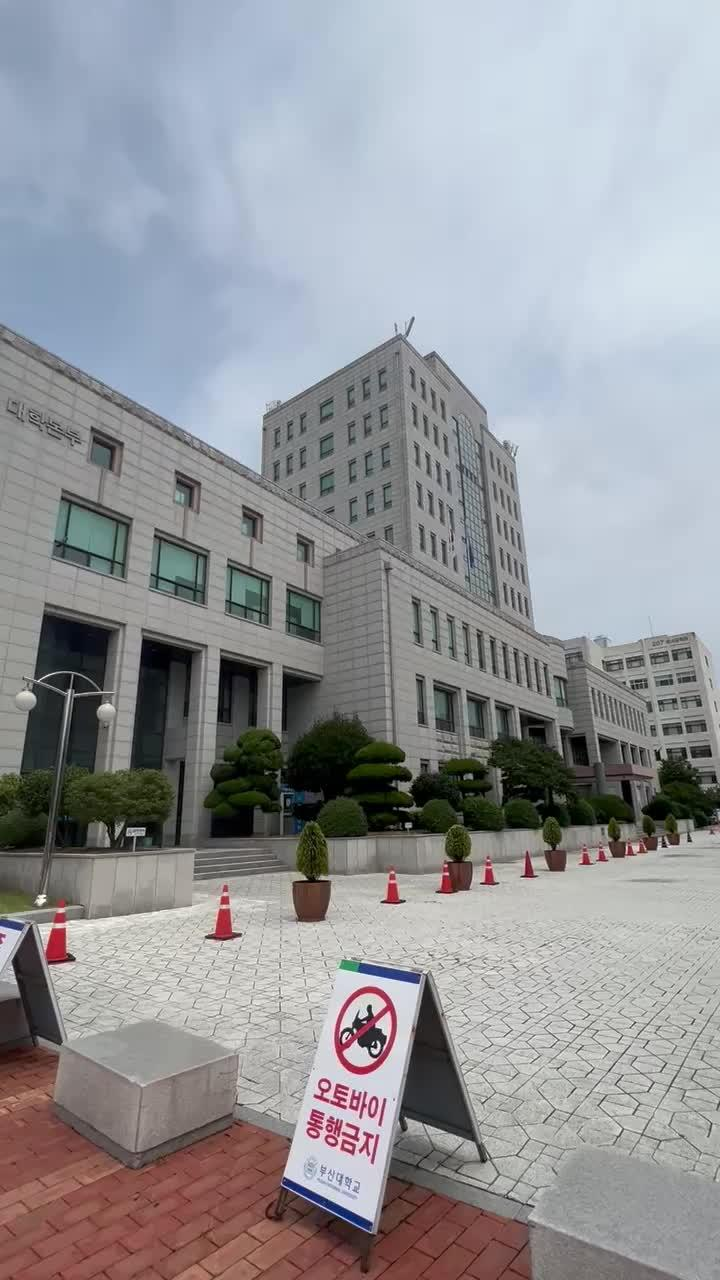building: (0, 278, 546, 742)
